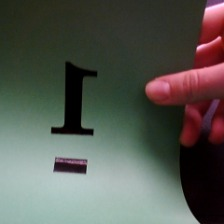green1: (44, 55, 111, 180)
